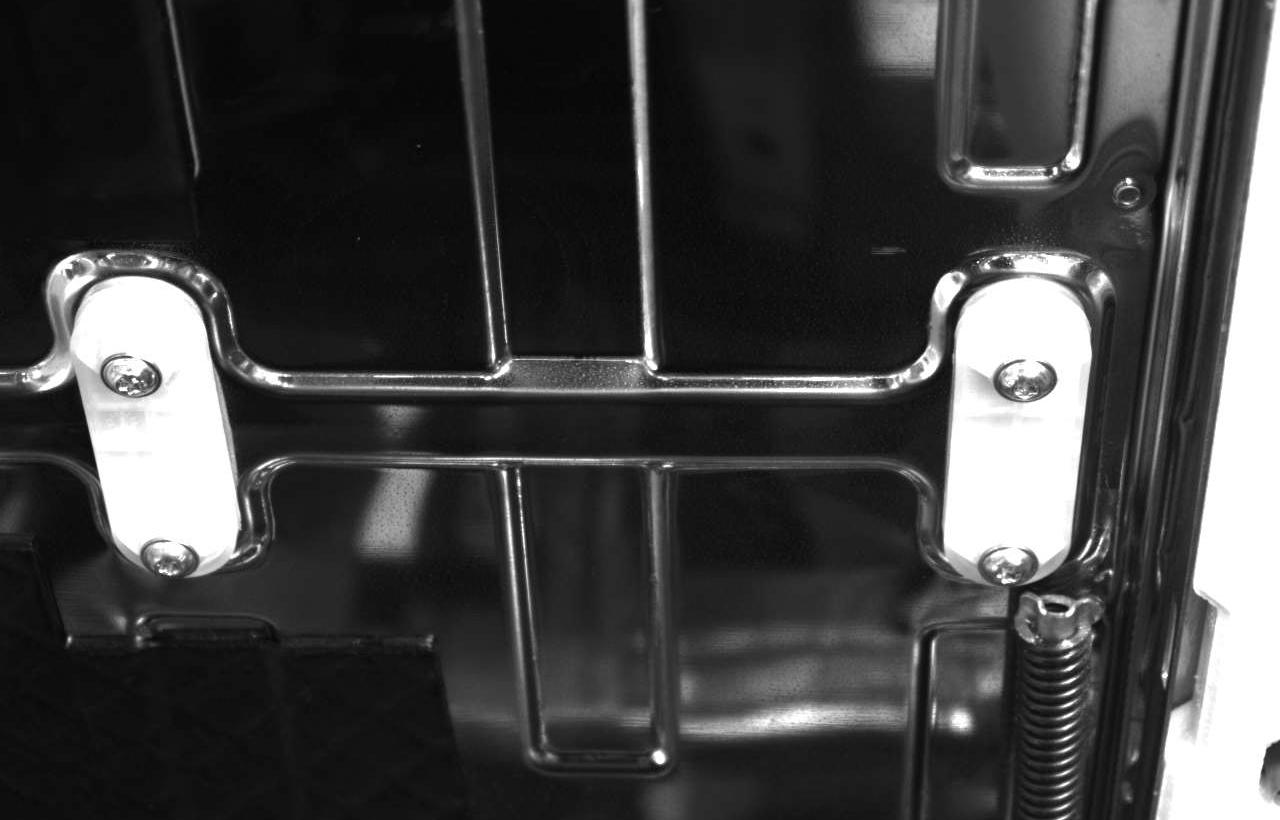vida-ok: (97, 349, 171, 414), (971, 535, 1044, 594), (990, 351, 1061, 411), (134, 534, 207, 588)
